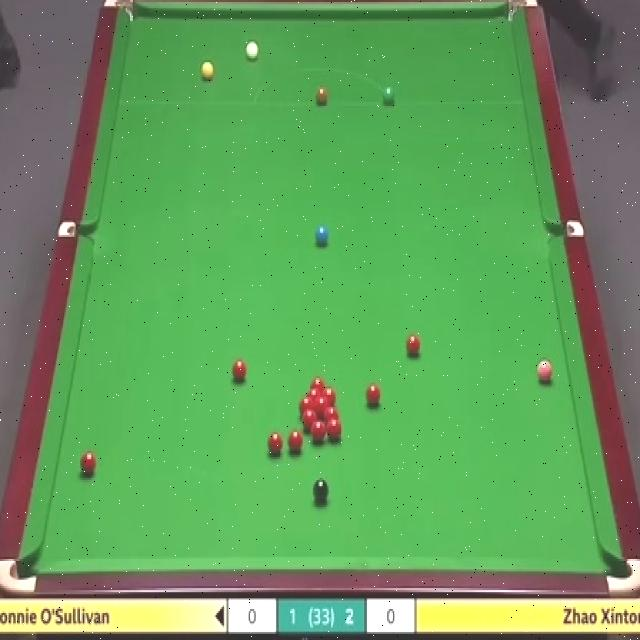black-ball: (313, 476, 329, 507)
blue-ball: (314, 225, 330, 247)
brown-ball: (315, 85, 328, 106)
green-ball: (382, 86, 396, 106)
pink-ball: (537, 357, 553, 384)
red-ball: (79, 450, 97, 478), (287, 428, 304, 457), (230, 356, 247, 384), (266, 430, 283, 456), (406, 332, 422, 358), (326, 418, 342, 443), (365, 382, 381, 406), (312, 421, 326, 444), (302, 408, 316, 431), (321, 386, 336, 406), (313, 396, 328, 414), (298, 396, 313, 413), (324, 408, 338, 422), (310, 377, 326, 389), (306, 388, 322, 398)
white-ball: (244, 39, 258, 62)
yellow-ball: (200, 60, 214, 81)
